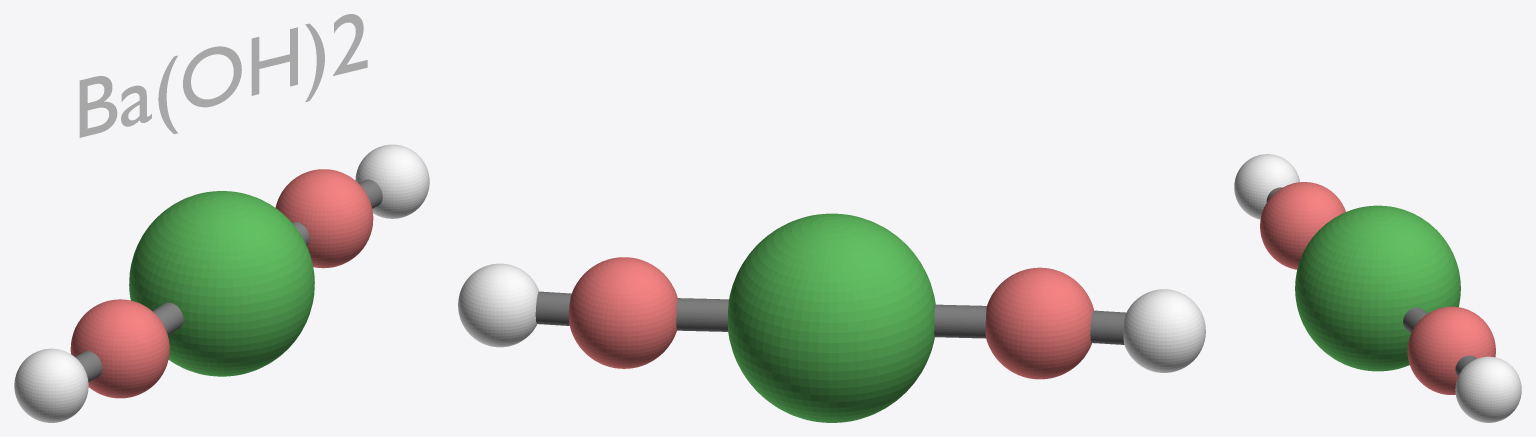
3 renders of one model, left to right at view 1: azimuth 30°, elevation 25°; view 2: azimuth 150°, elevation 25°; view 3: azimuth 270°, elevation 25°, orthographic. The views are drawn at different scales.
Visible parts, largest first — view 1: Ba, O1, Label, O2, H1, H2, Bond, Bond.001, Bond.003; view 2: Ba, O2, O1, H1, H2, Bond, Bond.002, Bond.001, Bond.003; view 3: Ba, O2, O1, H2, H1, Bond.002.
Part boxes in pixels (left/top/right/bottom): Ba: left=129, top=191, right=314, bottom=376; O1: left=70, top=299, right=169, bottom=398; Label: left=79, top=14, right=367, bottom=137; O2: left=275, top=169, right=373, bottom=268; H1: left=14, top=348, right=88, bottom=422; H2: left=355, top=144, right=429, bottom=218; Bond: left=152, top=302, right=183, bottom=335; Bond.001: left=75, top=351, right=102, bottom=382; Bond.003: left=359, top=179, right=382, bottom=208; Ba: left=727, top=213, right=935, bottom=422; O2: left=569, top=257, right=677, bottom=368; O1: left=985, top=267, right=1093, bottom=379; H1: left=1123, top=289, right=1205, bottom=372; H2: left=458, top=263, right=539, bottom=347; Bond: left=934, top=304, right=986, bottom=338; Bond.002: left=676, top=298, right=728, bottom=331; Bond.001: left=1090, top=310, right=1125, bottom=344; Bond.003: left=535, top=291, right=571, bottom=325; Ba: left=1295, top=205, right=1460, bottom=371; O2: left=1407, top=306, right=1495, bottom=394; O1: left=1260, top=182, right=1345, bottom=269; H2: left=1455, top=356, right=1521, bottom=422; H1: left=1234, top=154, right=1299, bottom=219; Bond.002: left=1403, top=307, right=1427, bottom=332.
Size of the model in its own units: 2.96 by 1.73 by 1.56.
